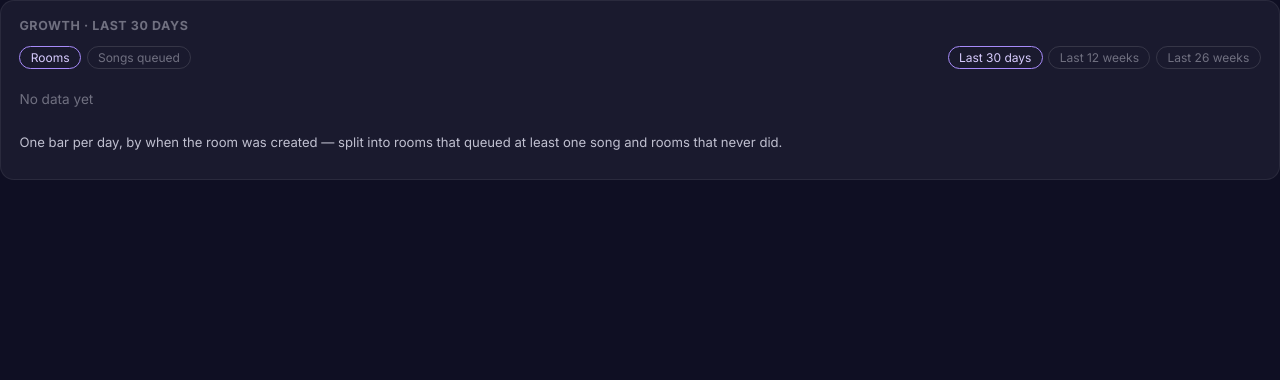
Test: PulseGrowth › switches to songs by source and to weekly buckets
This screenshot has width=1280, height=380.
Click the button "Songs queued" at point(139, 57), box [87,46,191,69]
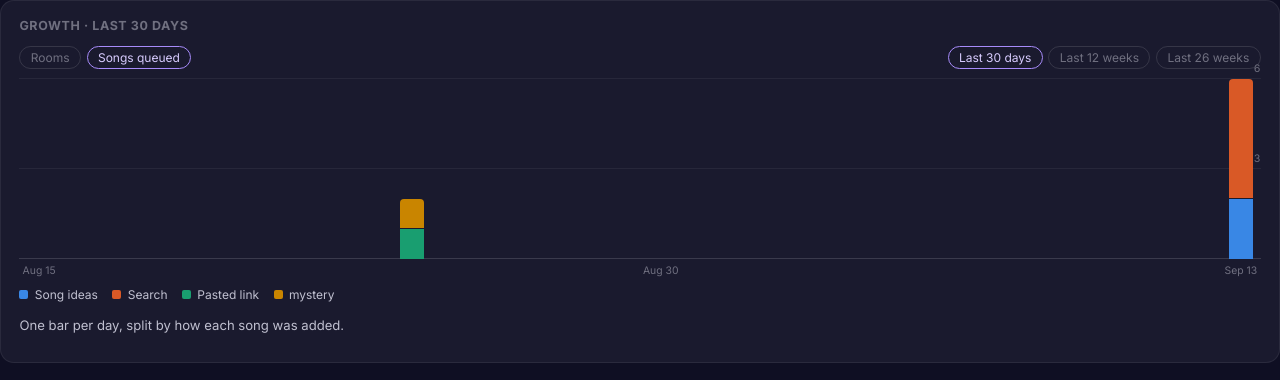
Expected: the picture named "Songs queued per day" is shown, [19,79,1261,302]
Expected: the list items read "Song ideas", "Search", "Pasted link", "mystery", in this order, [19,287,98,302]; [112,287,168,302]; [182,287,259,302]; [274,287,335,302]
Click the button "Last 12 weeks" at point(1099, 57), box [1048,46,1150,69]
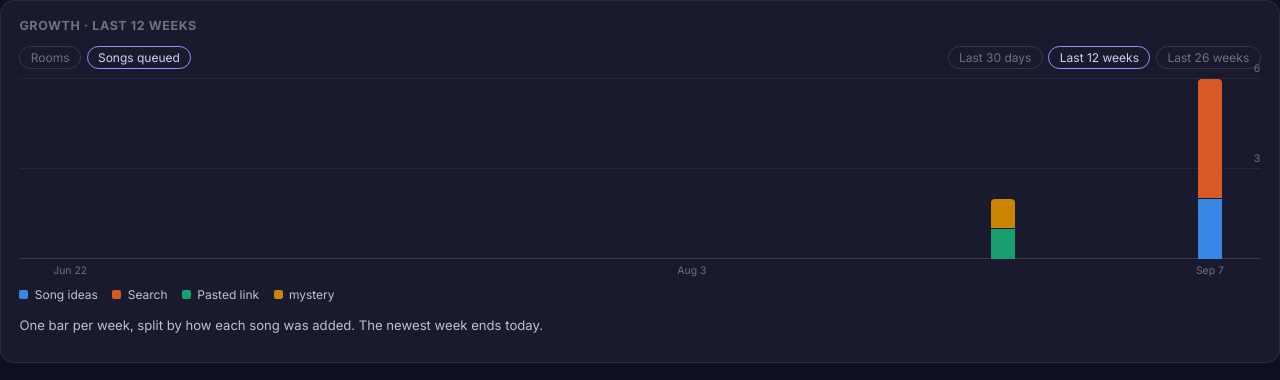
Expected: the heading "Growth · Last 12 weeks" is shown, [19,18,197,33]
Expected: the picture named "Songs queued per week" is shown, [19,79,1261,302]
